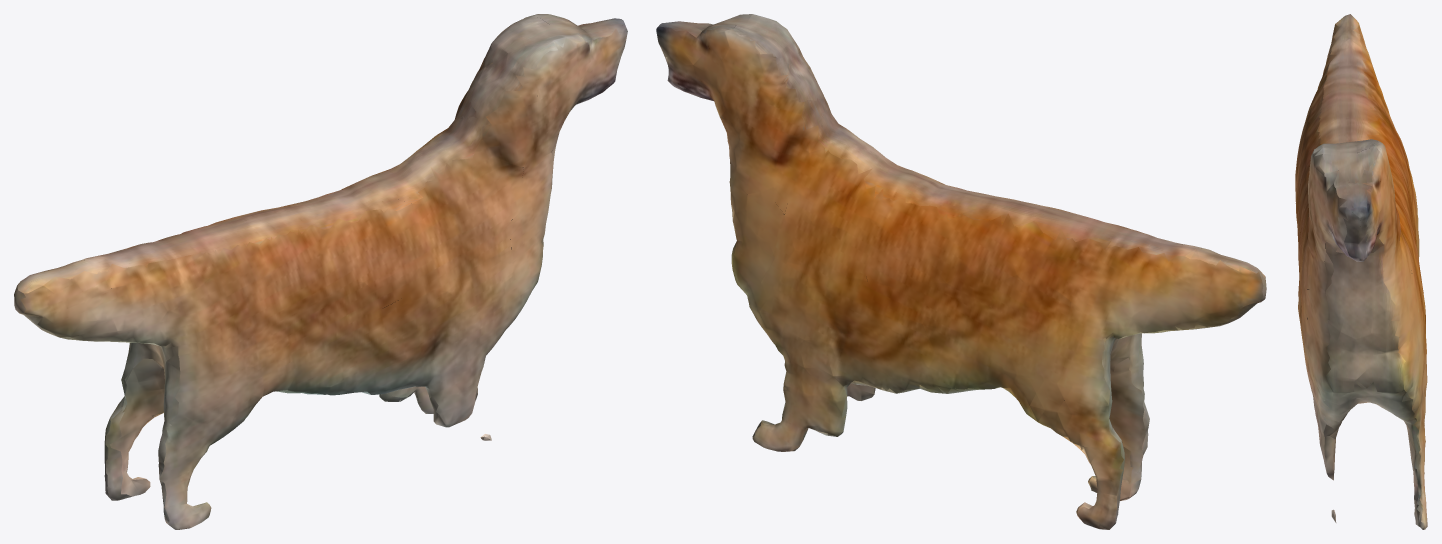
The model's file is dog_00007.glb.
The picture shows the model from 3 angles, left to right: view 1: azimuth 30°, elevation 25°; view 2: azimuth 150°, elevation 25°; view 3: azimuth 270°, elevation 25°; orthographic projection. The views are drawn at different scales.
Parts seen in each view (by area): view 1: world; view 2: world; view 3: world.
Boxes of the visible parts, x1=… form: world: x1=14, y1=14, x2=627, y2=529; world: x1=656, y1=14, x2=1266, y2=529; world: x1=1295, y1=14, x2=1427, y2=529.
Size of the model in its own units: 0.9725 by 0.6146 by 0.1758.
1 material, 1 textured.
